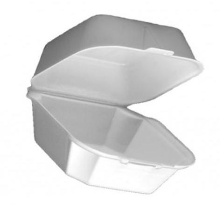foam_box: (21, 11, 207, 198)
